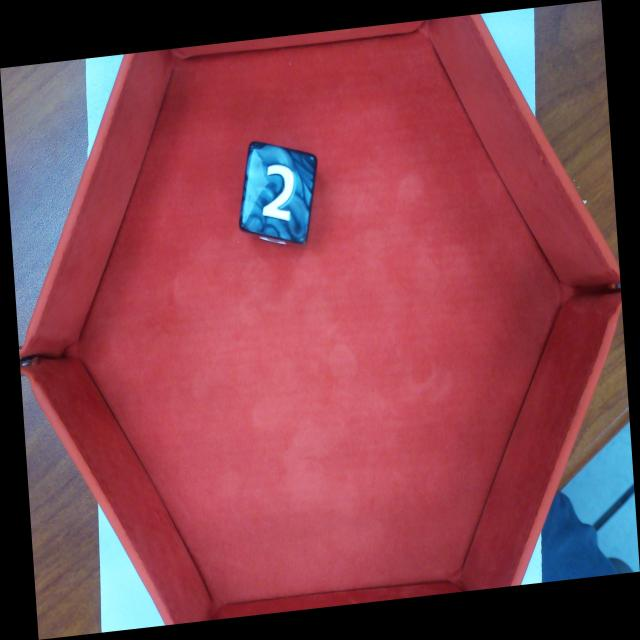dice: (239, 138, 315, 246)
